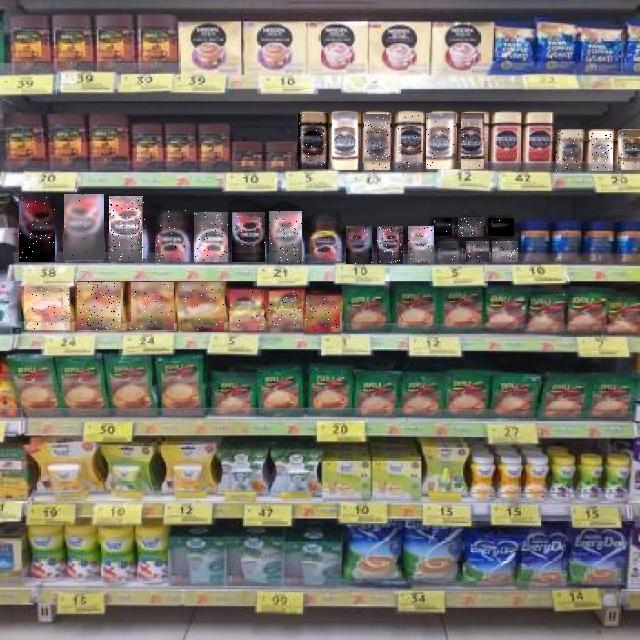Coffee: (64, 195, 104, 261), (19, 196, 55, 262), (110, 196, 146, 261), (178, 282, 224, 332), (77, 282, 121, 330), (131, 282, 174, 330), (24, 287, 70, 331), (155, 210, 188, 262), (269, 211, 302, 263), (194, 212, 228, 262), (298, 113, 328, 169), (426, 113, 456, 169), (232, 212, 265, 262), (396, 112, 422, 170), (333, 112, 359, 170), (462, 113, 488, 169), (364, 115, 390, 171), (230, 290, 264, 330), (269, 292, 302, 332), (306, 297, 340, 333), (346, 227, 372, 265), (377, 227, 403, 265), (557, 131, 581, 171), (589, 131, 613, 171), (409, 227, 435, 263), (618, 130, 640, 170), (438, 241, 462, 264), (493, 241, 519, 262), (458, 217, 484, 237), (466, 241, 489, 262), (489, 218, 515, 236), (434, 218, 452, 236)
